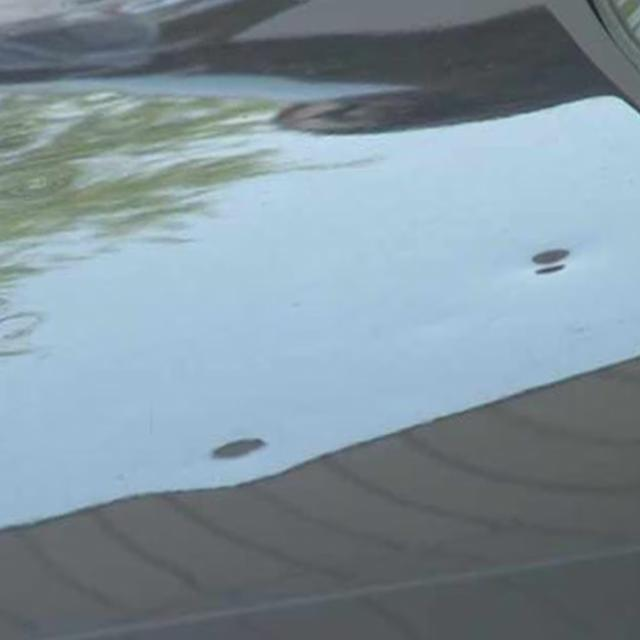dents: (521, 227, 585, 294), (212, 421, 266, 474)
